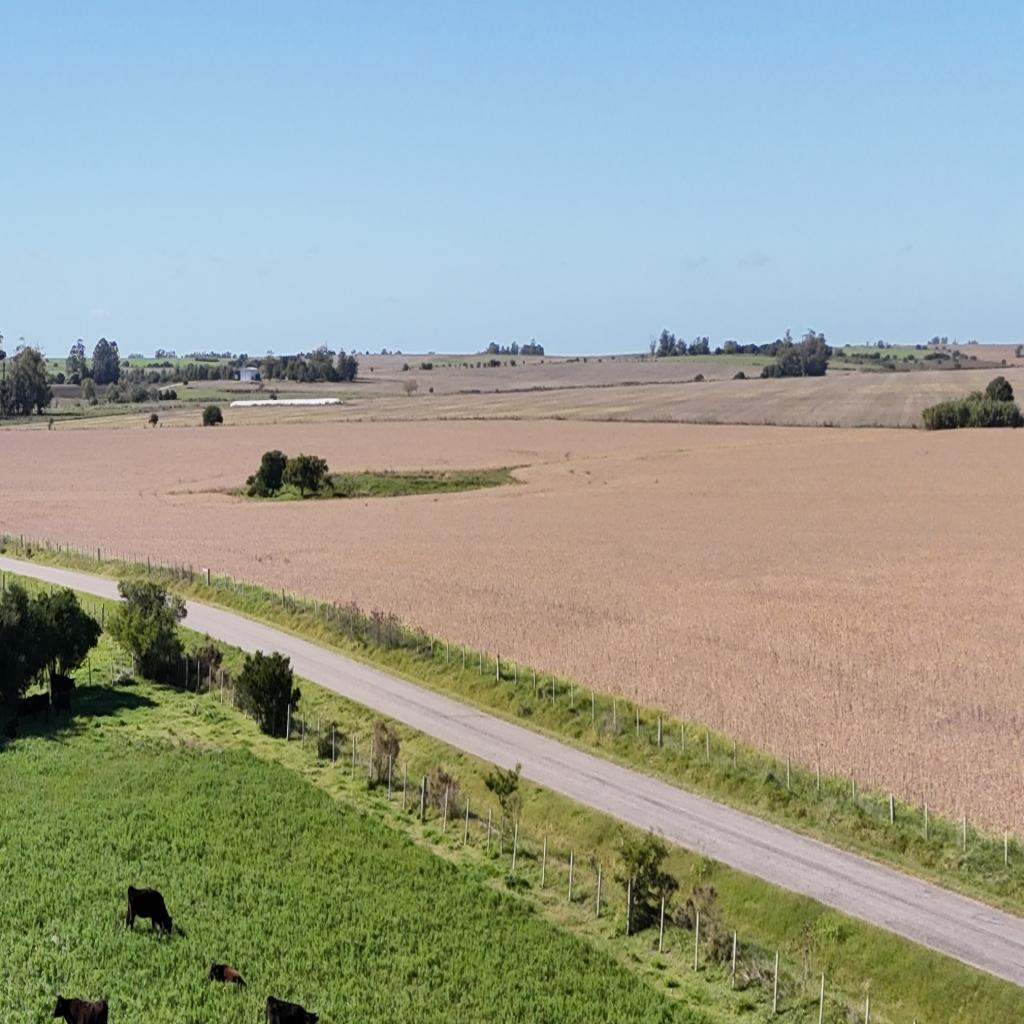cow: (108, 876, 188, 946), (49, 991, 110, 1024), (265, 994, 317, 1024), (207, 960, 247, 992), (14, 691, 51, 724), (1, 702, 24, 737)
